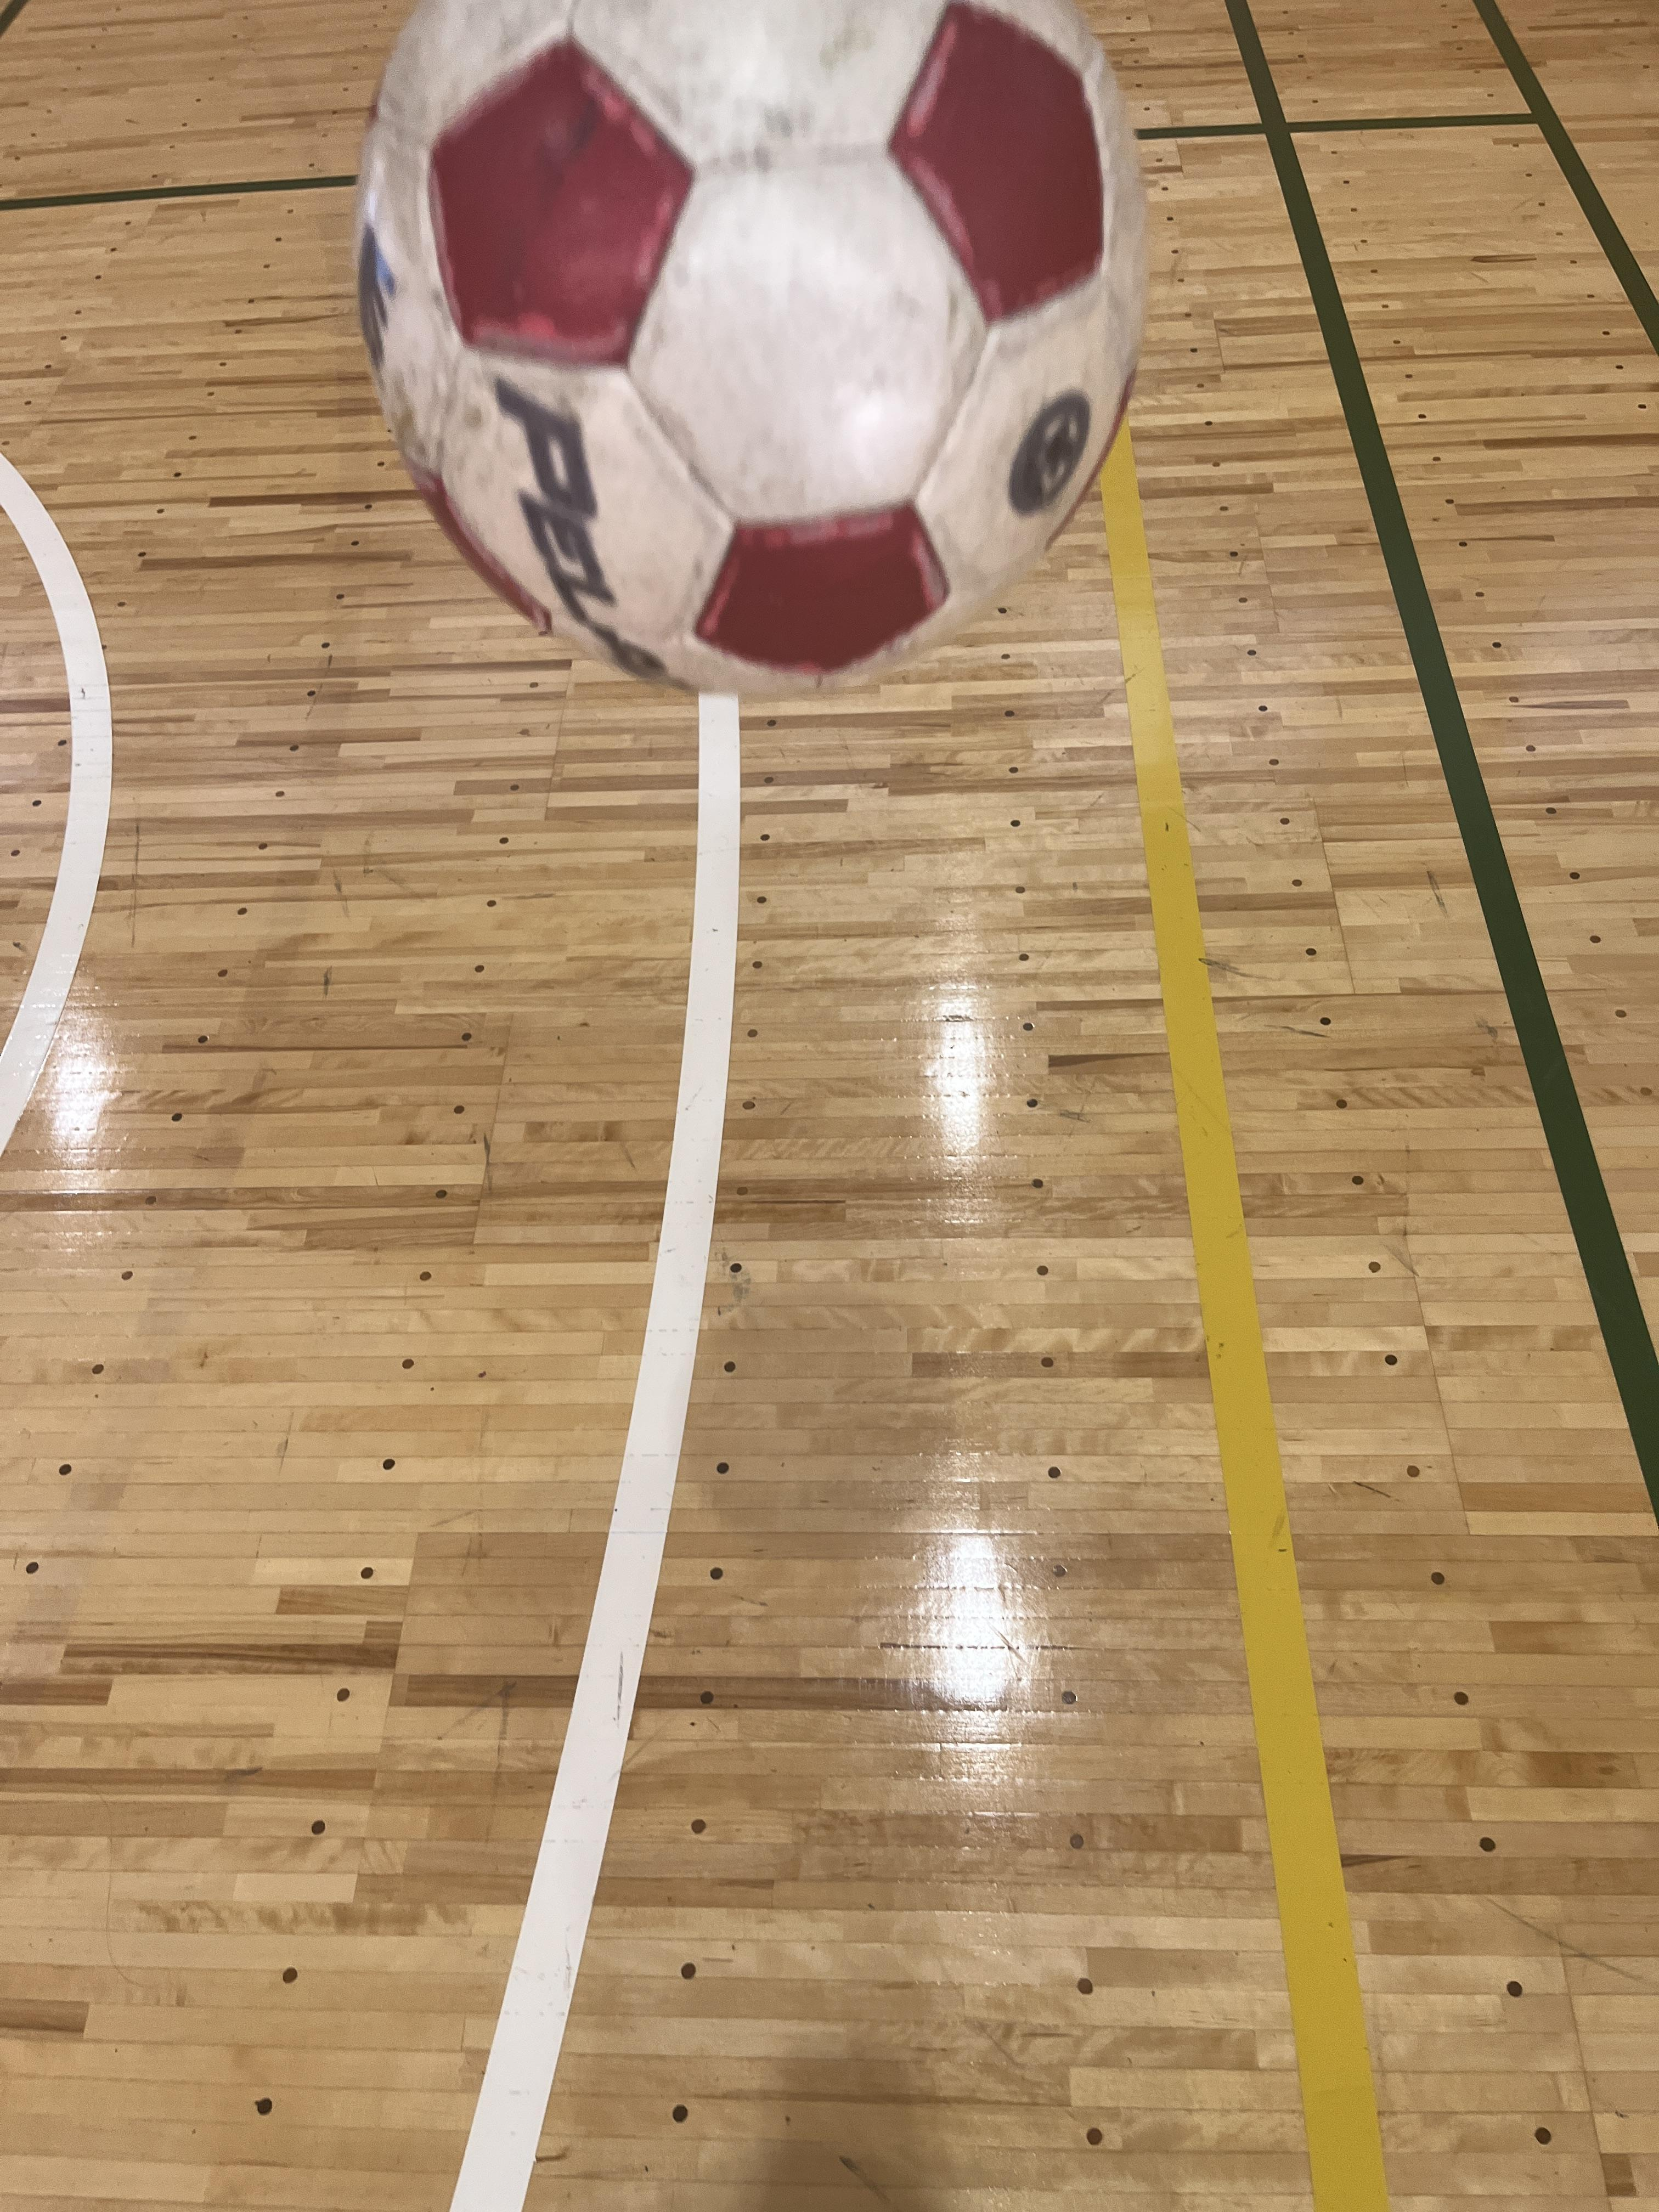Sports-Ball: (382, 0, 1127, 669)
